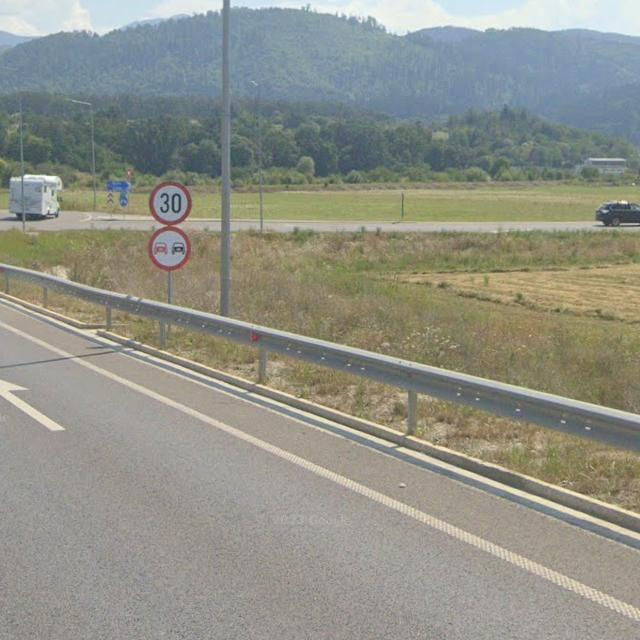forb_overtake: (148, 225, 191, 270)
forb_speed_over_30: (149, 180, 193, 223)
